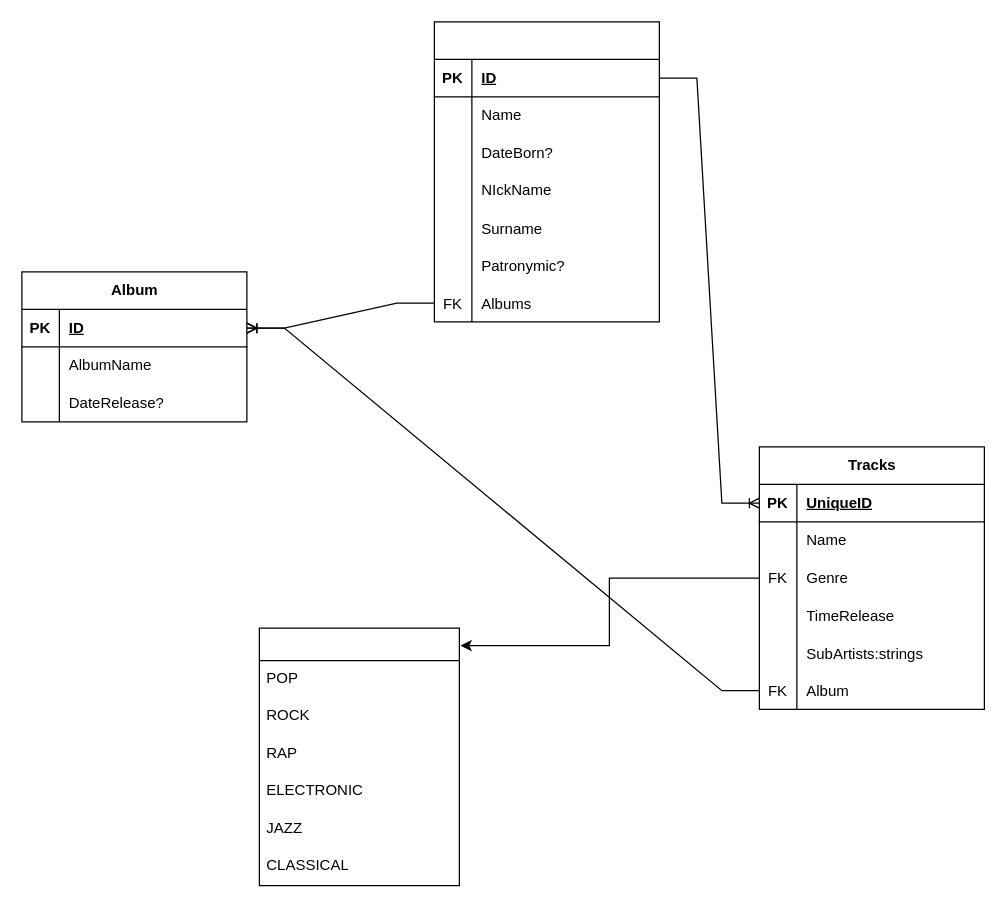
Some shapes in this 1006 by 911 pixel diagram are drawn without their labels. The box of each missing label's shape, as (x1, y1, x2, y2) in pixels:
Artists: (433, 21, 659, 322)
MusicGenre:enum: (258, 627, 459, 886)
